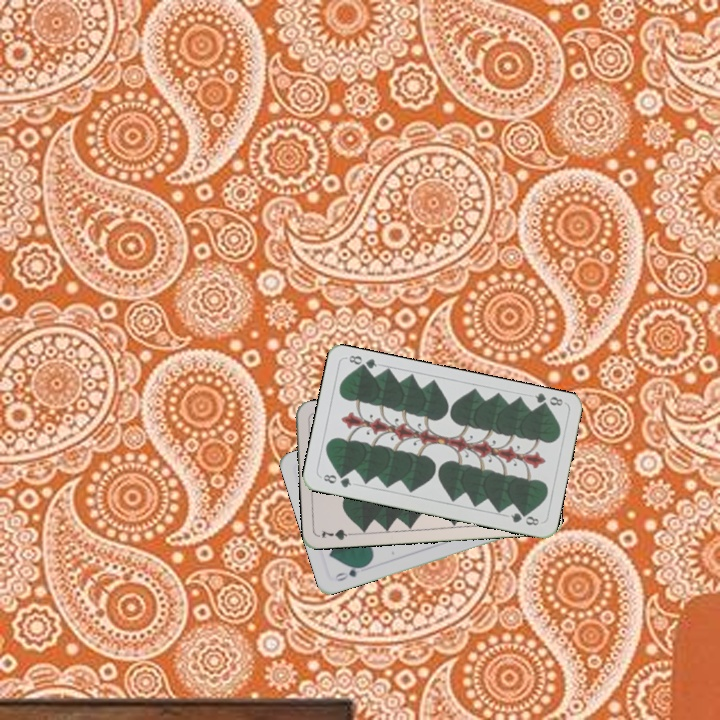G7: (318, 525, 358, 542)
G8: (531, 389, 565, 412), (319, 470, 354, 490)
GO: (331, 561, 369, 584)
